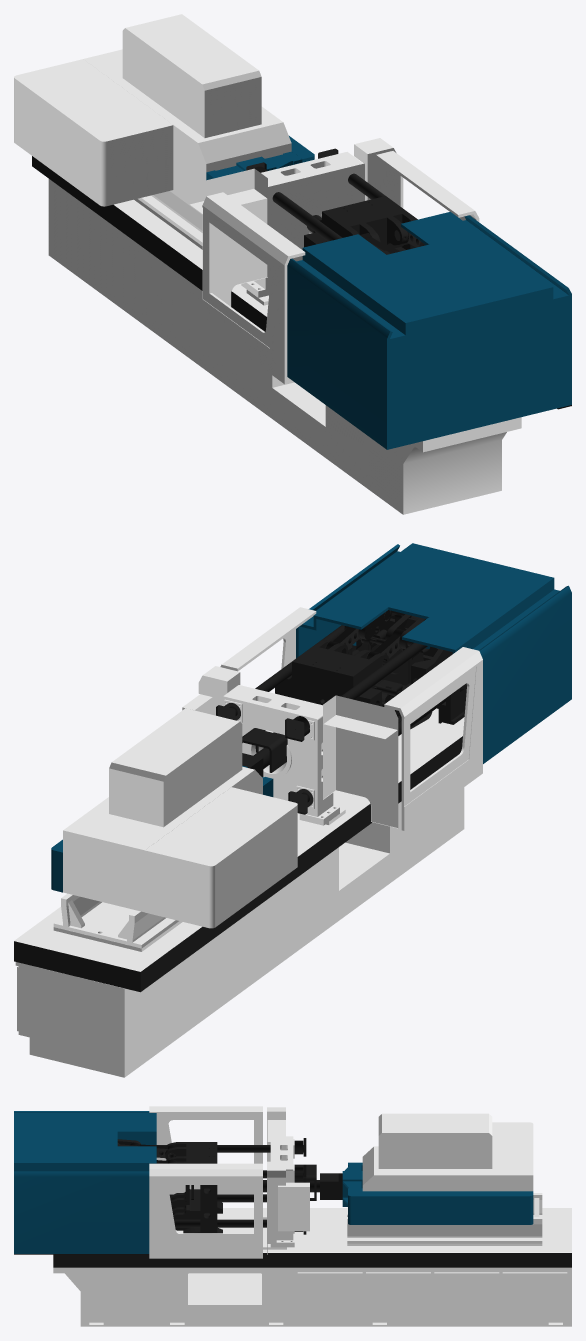
3 renders of one model, top to bottom at view 1: azimuth 30°, elevation 25°; view 2: azimuth 150°, elevation 25°; view 3: azimuth 270°, elevation 25°, orthographic. The views are drawn at different scales.
Parts seen in each view (by area): view 1: ??1 (×13), Buffer Layer (×2); view 2: ??1 (×16), Buffer Layer (×2); view 3: ??1 (×23), Buffer Layer (×2).
Boxes of the visible parts, x1,y1,x2,y2 form: ??1 (×13): [14, 14, 571, 449]; Buffer Layer (×2): [32, 156, 521, 514]; ??1 (×16): [15, 543, 571, 1037]; Buffer Layer (×2): [14, 708, 464, 1077]; ??1 (×23): [14, 1106, 568, 1320]; Buffer Layer (×2): [53, 1208, 571, 1326].
Size of the model in its own units: 0.1394 by 0.1796 by 0.4905.
